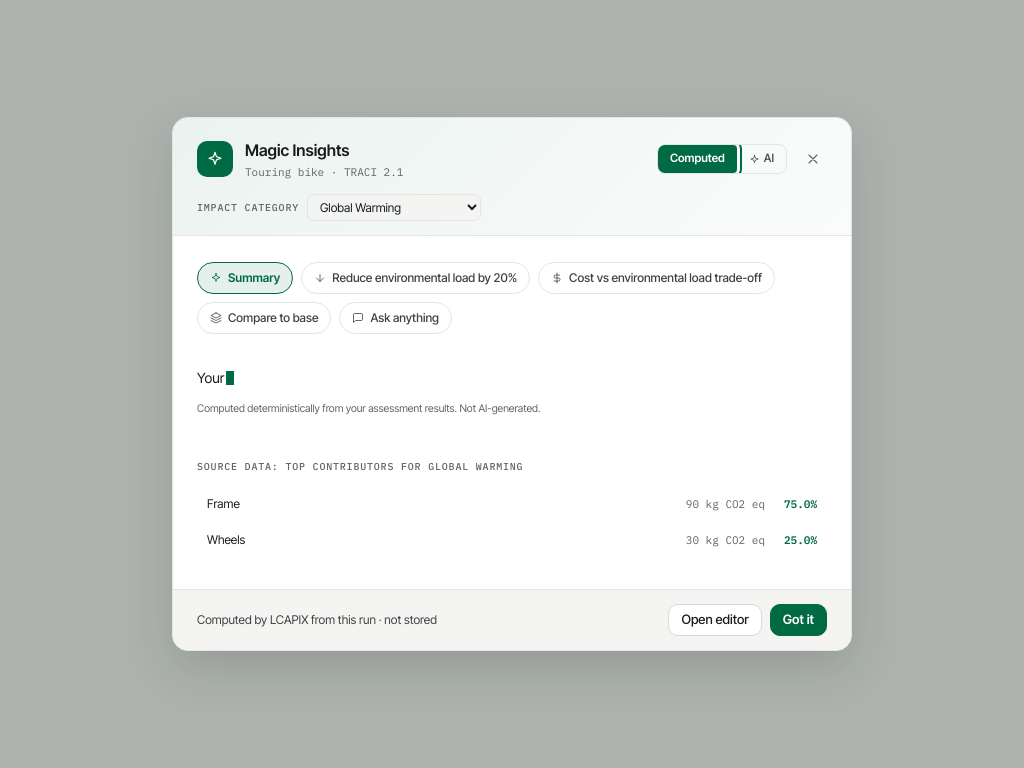
Test: <MagicInsightsModal> AI limits › still blames a missing key only when the server answers with a plain fallback
Click the button "AI" at (761, 159), box [737, 146, 786, 173]
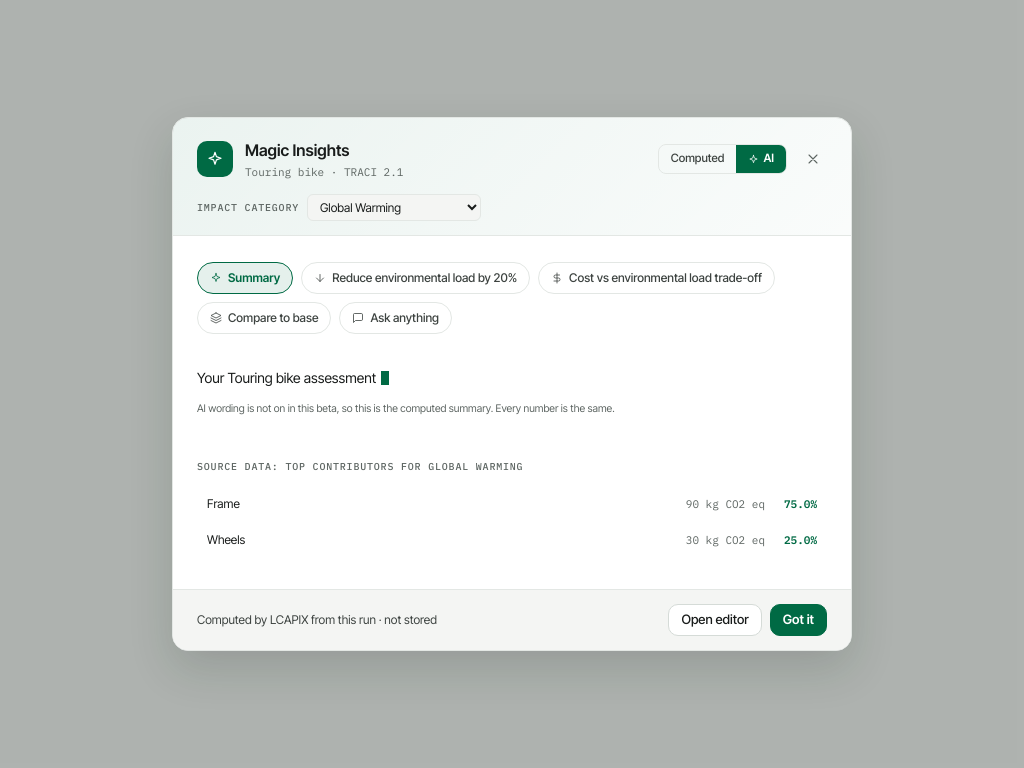
Expected: the text "AI wording is not on in this beta" is shown, [197, 402, 615, 415]
